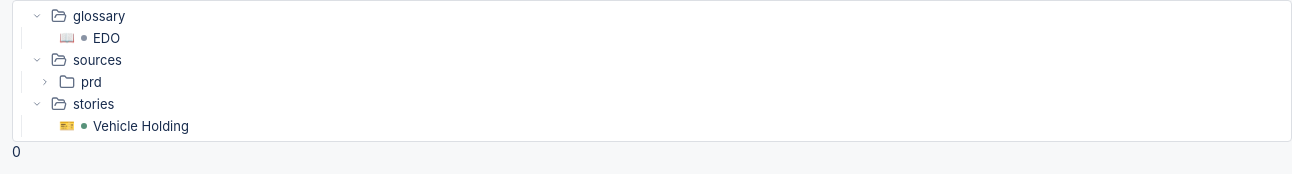
Test case: DirectoryTree selectable › folders are never wrapped as selectable — clicking one only expands/collapses
The image size is (1292, 174).
Expected: the text "EDO" is shown, x1=93 y1=30 x2=120 y2=46
Step 1. Click the text "glossary" → (99, 16), box x1=73 y1=8 x2=125 y2=24
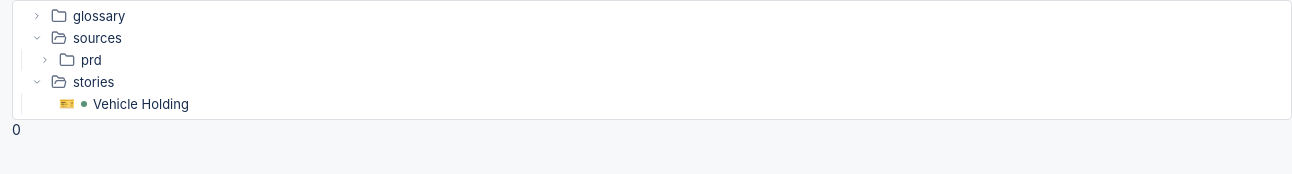
Expected: the text with test id "sel-count" reads "0", x1=12 y1=121 x2=21 y2=138
Result: the button "EDO" is gone
